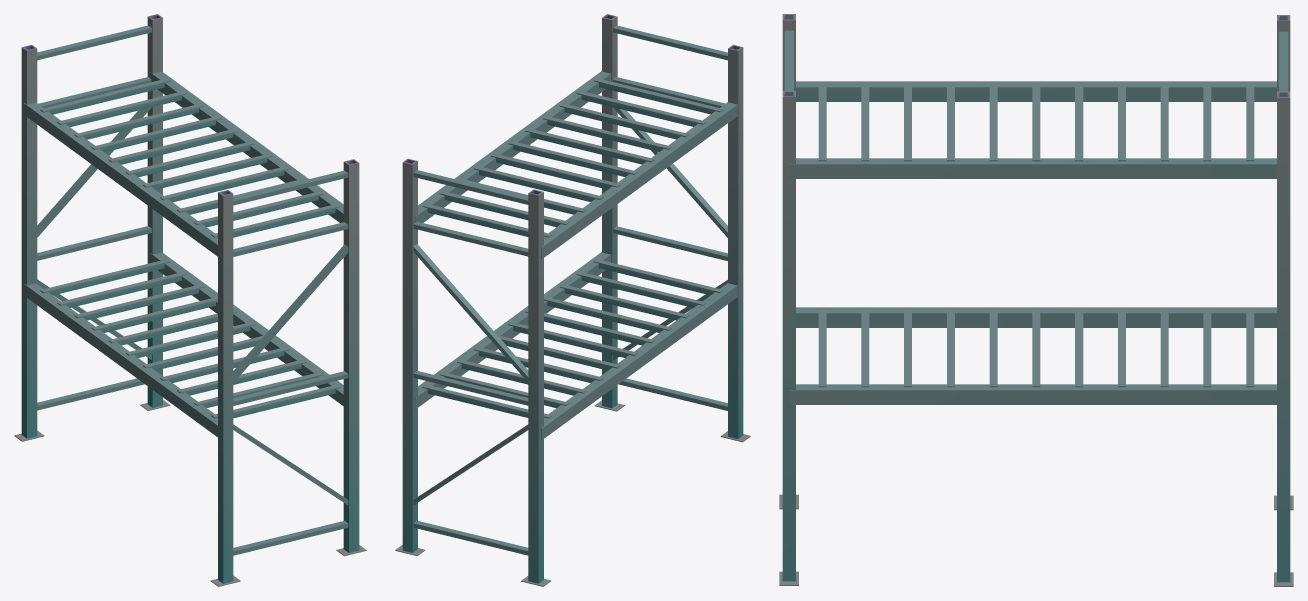
Rendered from simready-rack_h3m_s02.glb.
The picture shows the model from 3 angles, left to right: view 1: azimuth 30°, elevation 25°; view 2: azimuth 150°, elevation 25°; view 3: azimuth 270°, elevation 25°; orthographic projection. The views are drawn at different scales.
Parts seen in each view (by area): view 1: upright.004, upright.003, upright.001, edge_rail.002, edge_rail, upright.002, edge_rail.003, edge_rail.001, upper_diagonal.001, slat.017, slat.015, slat.011 (+29 smaller); view 2: upright.001, upright.002, upright.003, edge_rail, edge_rail.002, upright.004, edge_rail.003, edge_rail.001, upper_diagonal, slat.002, slat.013, slat.016 (+29 smaller); view 3: edge_rail.001, edge_rail.003, edge_rail.002, edge_rail, upright.002, upright.004, slat.001, slat.002, slat.005, slat.006, slat.007, slat.009 (+10 smaller).
Boxes of the visible parts, x1=… form: upright.004: x1=343, y1=159, x2=359, y2=552; upright.003: x1=218, y1=190, x2=233, y2=583; upright.001: x1=21, y1=44, x2=37, y2=438; edge_rail.002: x1=23, y1=102, x2=217, y2=256; edge_rail: x1=23, y1=283, x2=217, y2=437; upright.002: x1=147, y1=14, x2=162, y2=407; edge_rail.003: x1=149, y1=71, x2=343, y2=222; edge_rail.001: x1=149, y1=252, x2=343, y2=405; upper_diagonal.001: x1=233, y1=244, x2=348, y2=382; slat.017: x1=126, y1=141, x2=255, y2=177; slat.015: x1=160, y1=166, x2=289, y2=202; slat.011: x1=40, y1=259, x2=169, y2=295; upright.001: x1=528, y1=189, x2=543, y2=583; upright.002: x1=402, y1=158, x2=417, y2=552; upright.003: x1=728, y1=44, x2=743, y2=438; edge_rail: x1=541, y1=283, x2=737, y2=439; edge_rail.002: x1=541, y1=102, x2=737, y2=258; upright.004: x1=602, y1=14, x2=617, y2=408; edge_rail.003: x1=415, y1=71, x2=611, y2=222; edge_rail.001: x1=415, y1=252, x2=611, y2=409; upper_diagonal: x1=413, y1=244, x2=528, y2=382; slat.002: x1=576, y1=271, x2=706, y2=307; slat.013: x1=576, y1=90, x2=706, y2=126; slat.016: x1=525, y1=128, x2=654, y2=164; edge_rail.001: x1=789, y1=384, x2=1276, y2=404; edge_rail.003: x1=789, y1=158, x2=1276, y2=178; edge_rail.002: x1=794, y1=81, x2=1276, y2=101; edge_rail: x1=796, y1=307, x2=1276, y2=327; upright.002: x1=1277, y1=91, x2=1290, y2=582; upright.004: x1=782, y1=90, x2=795, y2=581; slat.001: x1=818, y1=309, x2=826, y2=387; slat.002: x1=861, y1=309, x2=869, y2=387; slat.005: x1=989, y1=309, x2=997, y2=387; slat.006: x1=1032, y1=309, x2=1040, y2=387; slat.007: x1=1075, y1=309, x2=1083, y2=387; slat.009: x1=1160, y1=309, x2=1168, y2=387.
Size of the model in its own units: 1.21 by 3 by 2.88.
